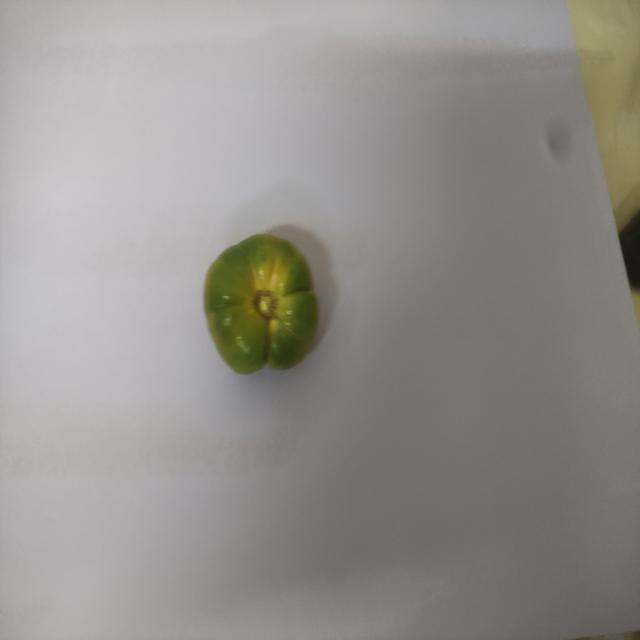yesil: (186, 222, 344, 396)
